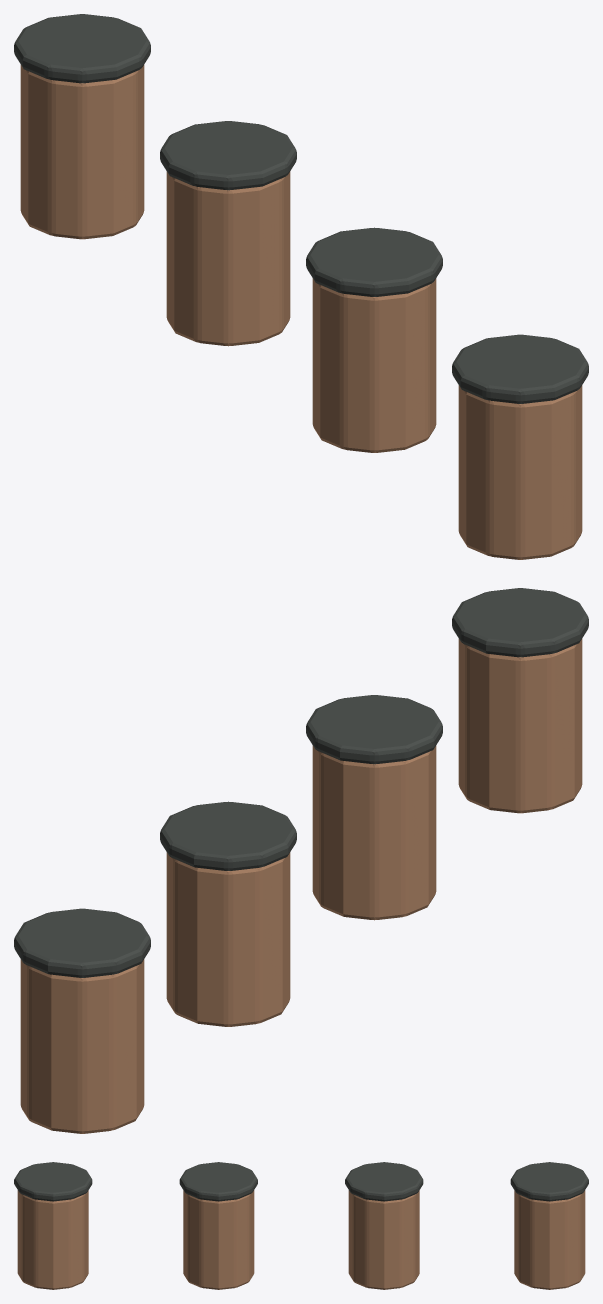
The model's file is SM_PlayerHouse_Storage_WorkshopJars.fbx.
The picture shows the model from 3 angles, top to bottom: view 1: azimuth 30°, elevation 25°; view 2: azimuth 150°, elevation 25°; view 3: azimuth 270°, elevation 25°; orthographic projection. The views are drawn at different scales.
Visible parts, largest first — view 1: SM_PlayerHouse_Storage_WorkshopJars; view 2: SM_PlayerHouse_Storage_WorkshopJars; view 3: SM_PlayerHouse_Storage_WorkshopJars.
Part boxes in pixels (<box>): SM_PlayerHouse_Storage_WorkshopJars: <box>14,14,588,559</box>; SM_PlayerHouse_Storage_WorkshopJars: <box>14,588,588,1133</box>; SM_PlayerHouse_Storage_WorkshopJars: <box>14,1162,588,1289</box>.
Size of what is drawn, in the model's own units: 16.6 by 122 by 23.
